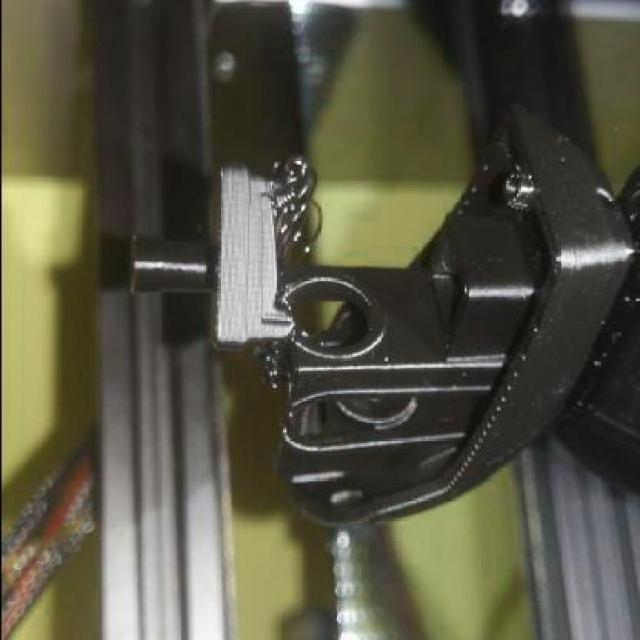Spaghetti: (264, 155, 321, 273), (248, 338, 294, 392)
